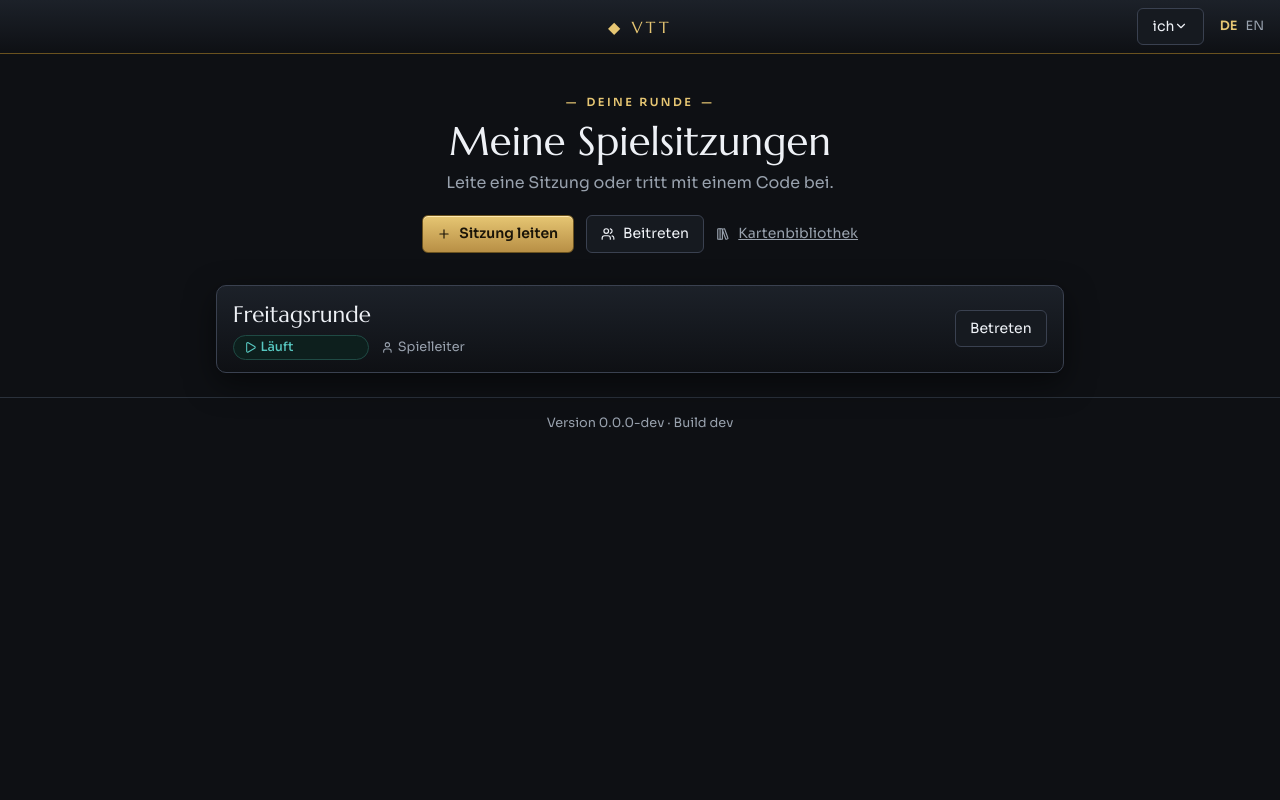
Übergänge › Beenden fragt vor dem Senden nach
Expected: the heading "Freitagsrunde" is shown, [233,300,371,328]
Step 1. Click the button "Betreten" → click(1001, 328), box [955,310,1047,347]
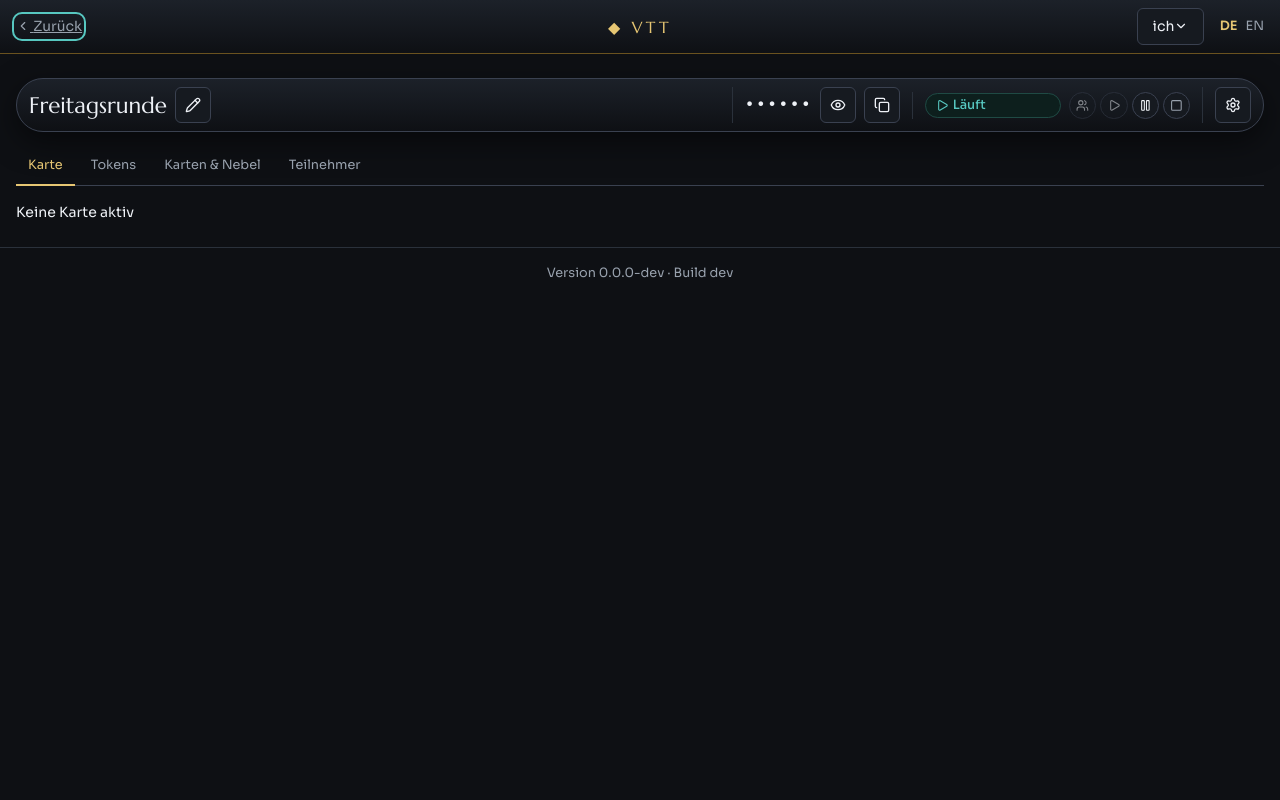
Step 2. Click the button named "Beenden" → click(1176, 105), box [1163,92,1190,119]
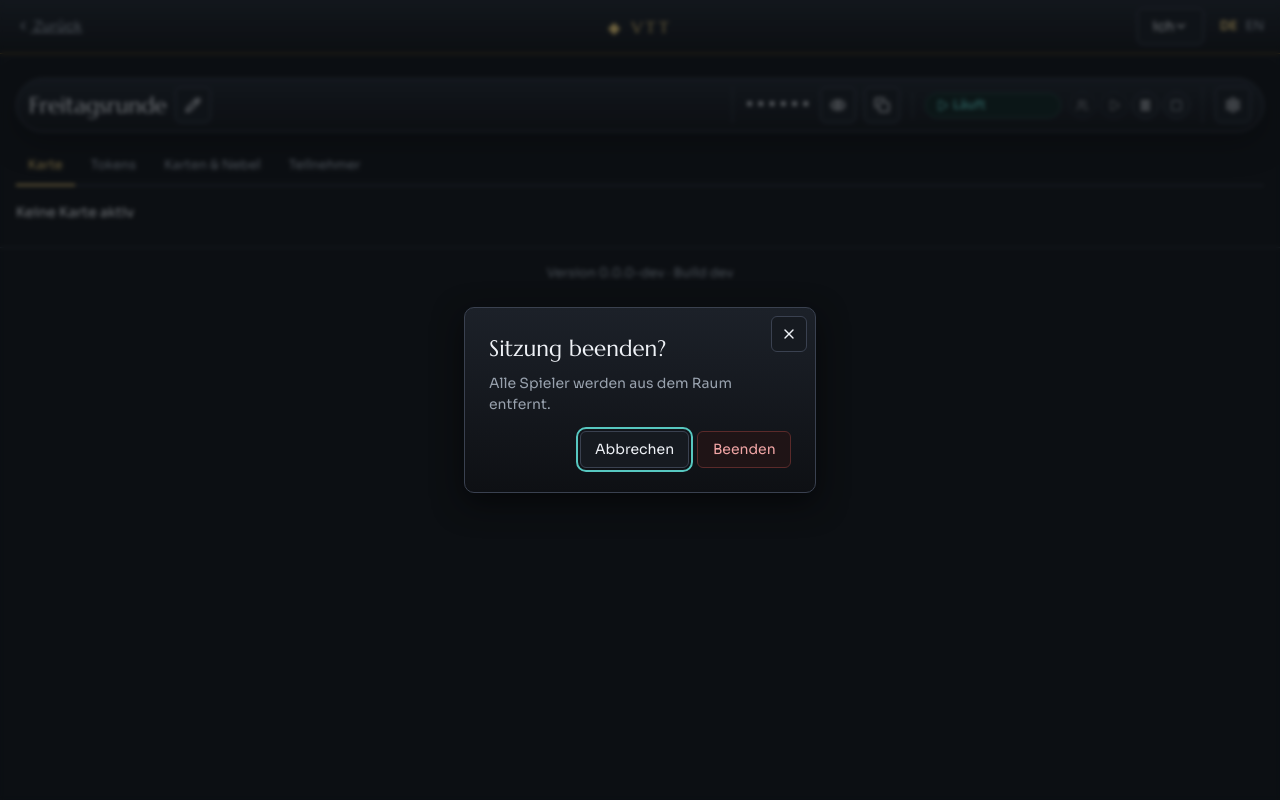
Result: the text "Alle Spieler werden aus dem Raum entfernt." is shown at [489,374,732,413]
Result: the button "Abbrechen" is shown at [580,431,690,468]
Result: the button "Beenden" is shown
Step 3. Click the button "Beenden" → click(744, 450), box [698,431,791,468]
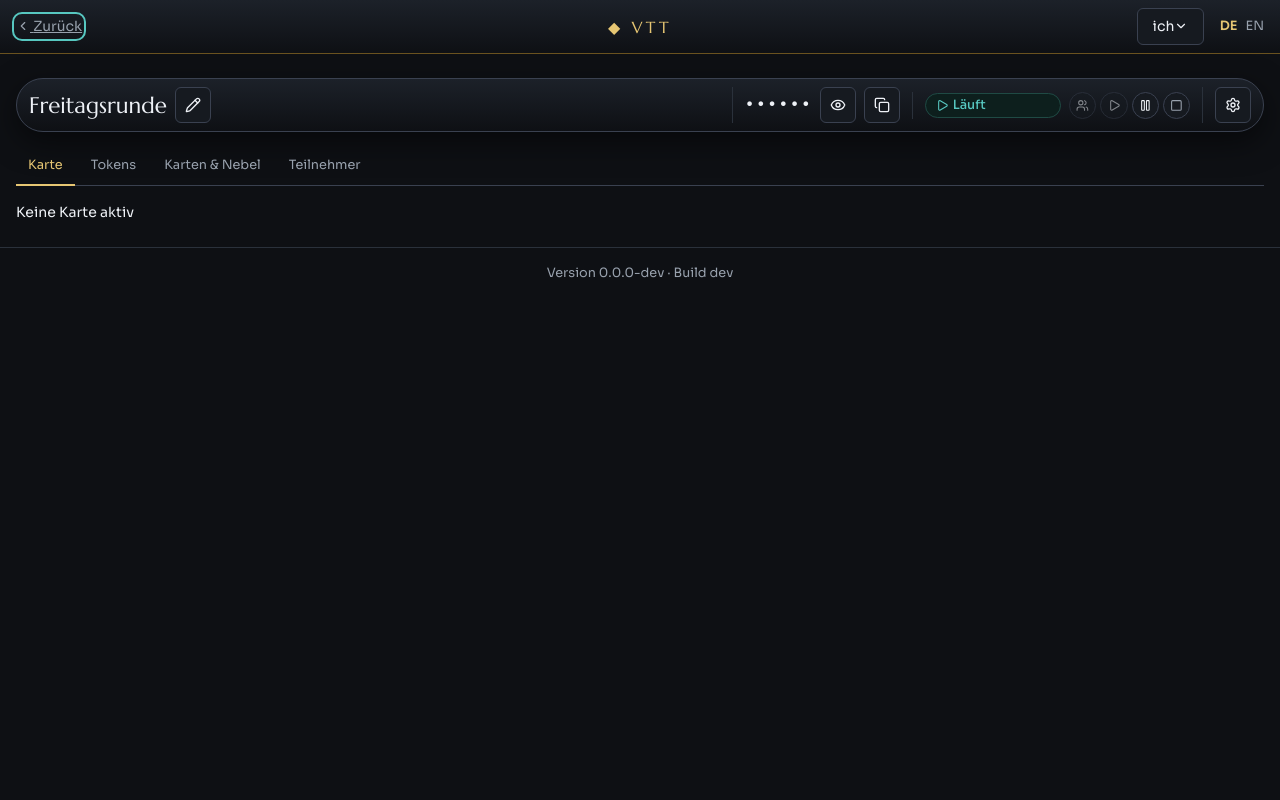
Result: the dialog is gone
